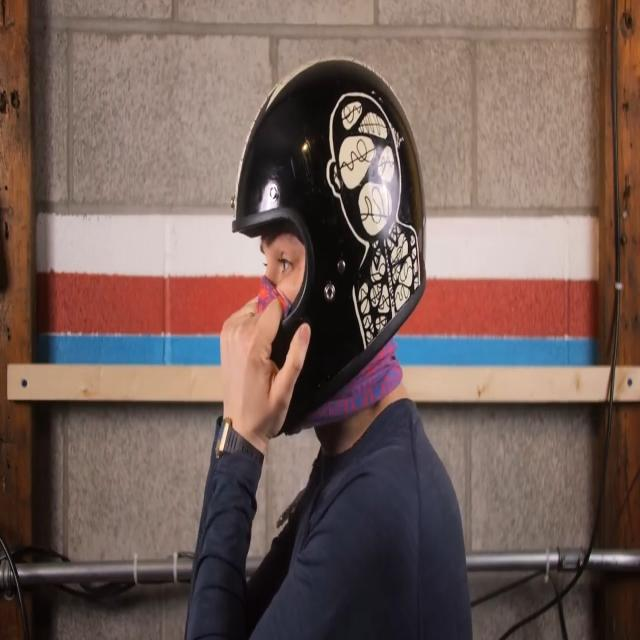Helmet_Wearer: (210, 61, 465, 426)
Person: (192, 67, 481, 640)
